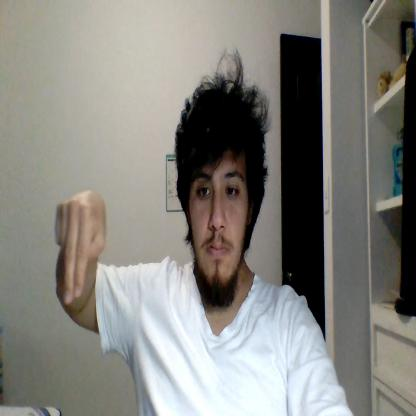N: (54, 191, 107, 304)
